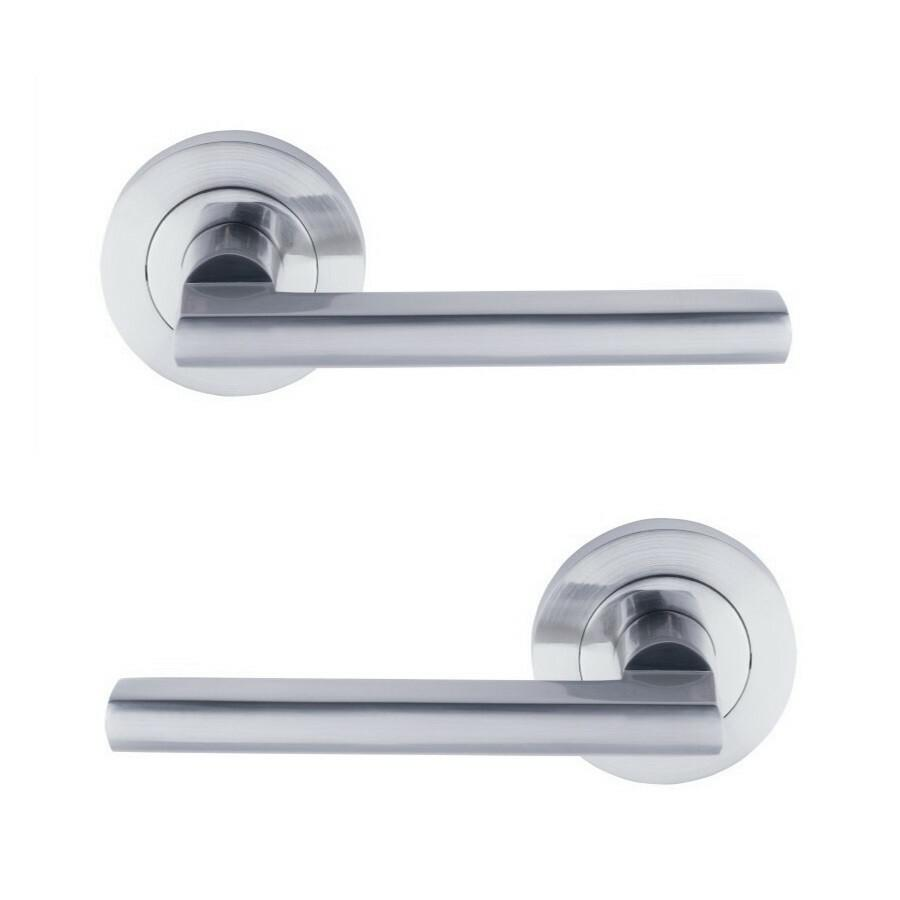doorhandle: (127, 228, 843, 423)
